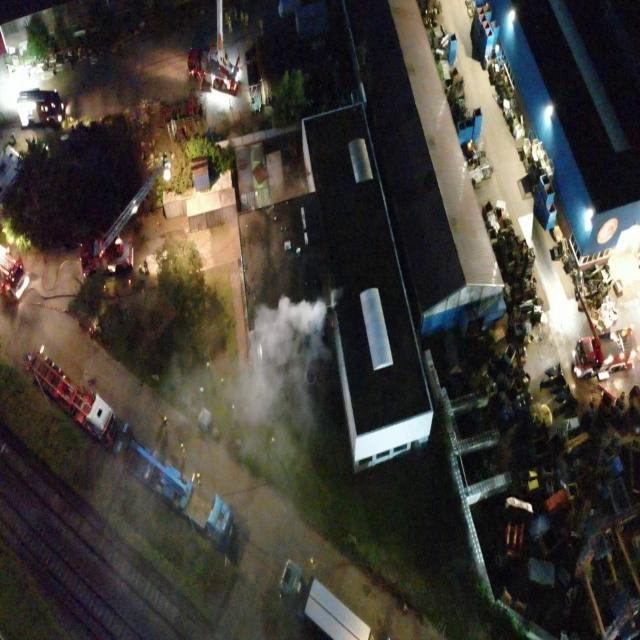Smoke: (215, 286, 344, 530), (270, 163, 308, 202)
